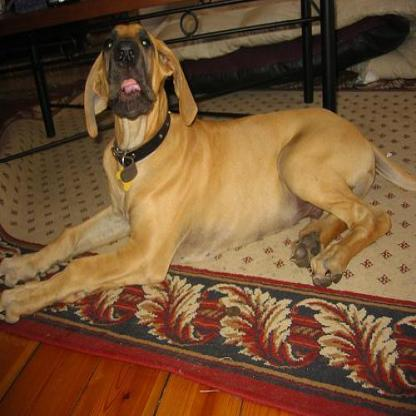Great_Dane: (2, 20, 414, 324)
